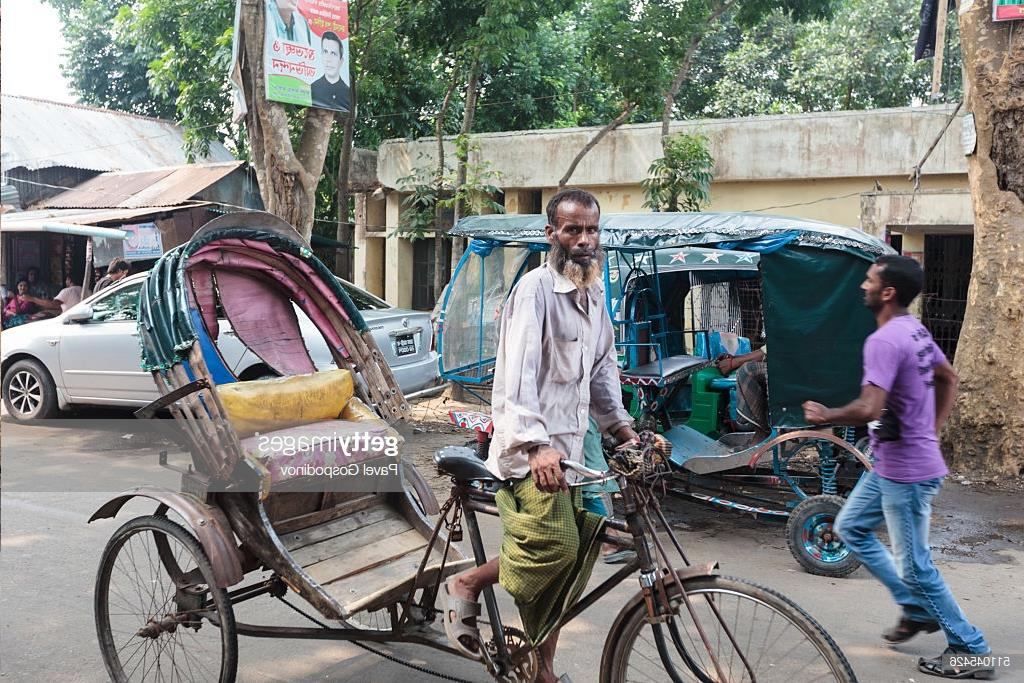Rickshaw: (114, 199, 804, 648)
